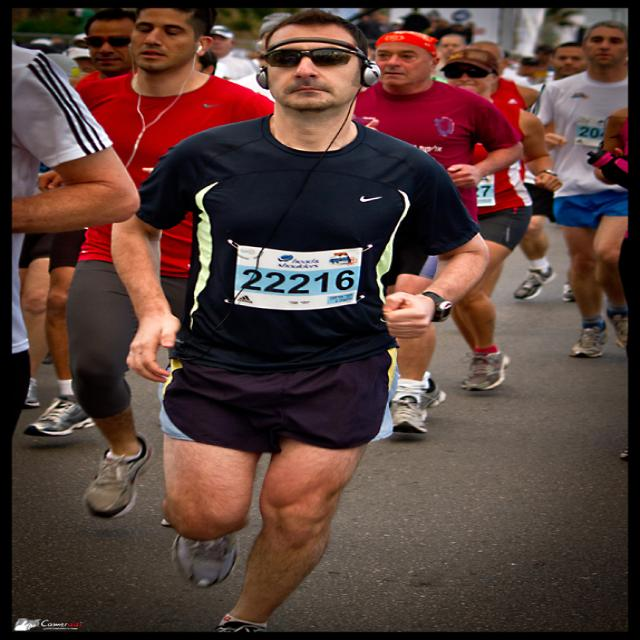Bib: (238, 269, 354, 299)
